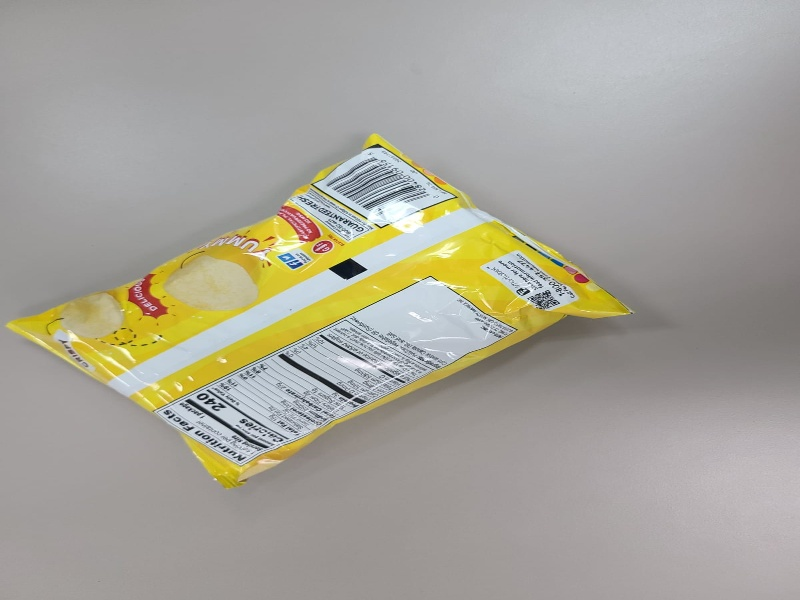lays: (6, 129, 637, 492)
